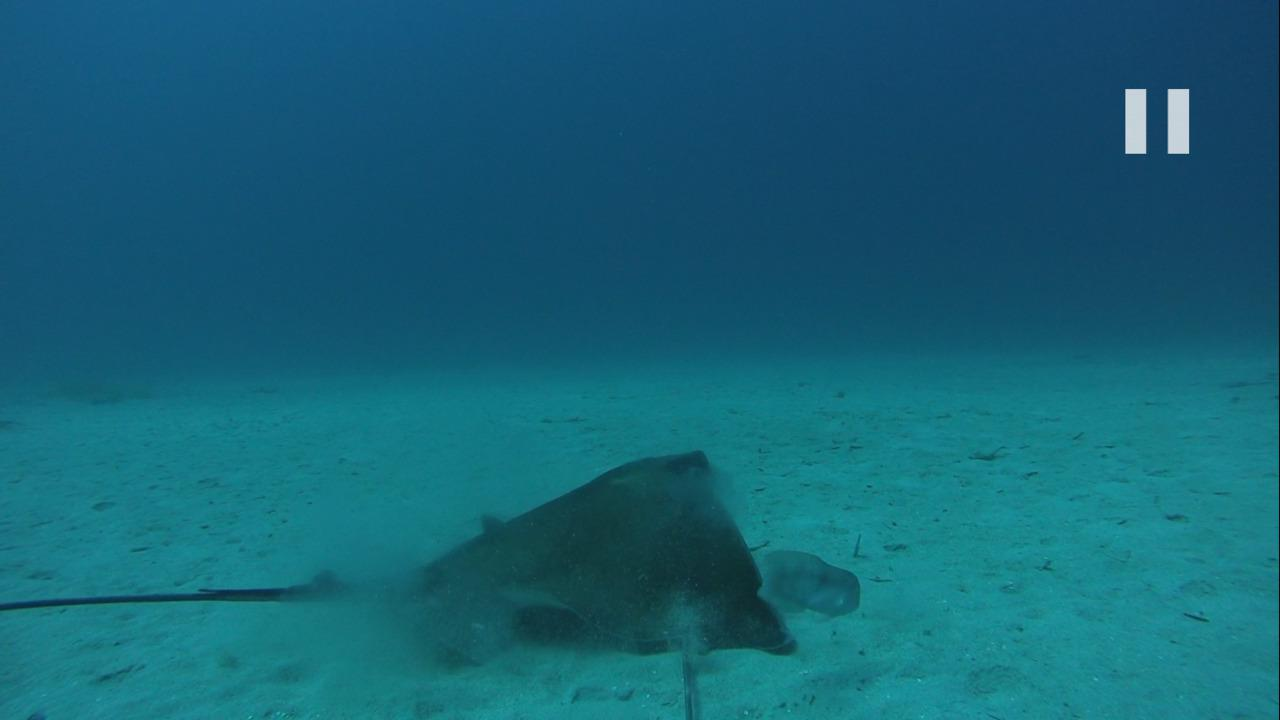raor: (753, 541, 865, 623)
